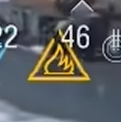1fire: (20, 50, 93, 84)
